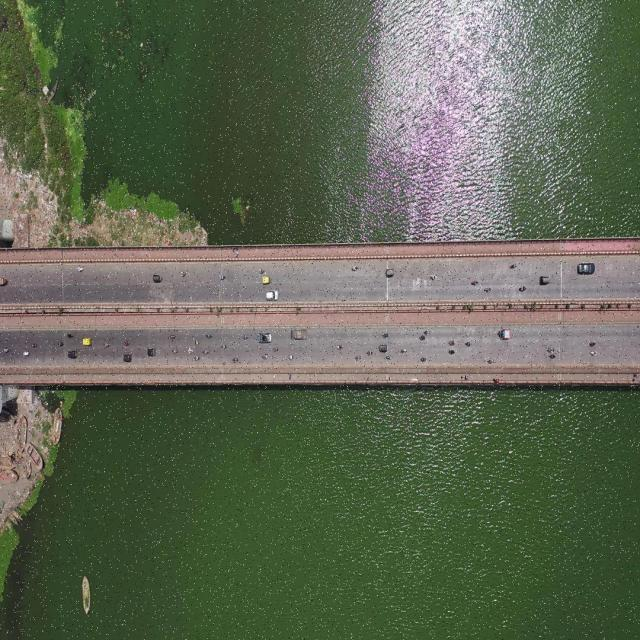3W: (79, 333, 98, 353), (0, 267, 12, 295), (383, 264, 398, 285), (537, 273, 553, 292), (150, 272, 165, 286), (262, 275, 274, 289), (377, 340, 389, 353), (400, 343, 410, 356), (420, 354, 429, 364), (419, 333, 426, 342)
Cars: (286, 322, 311, 345), (256, 328, 279, 347), (265, 289, 285, 307), (66, 346, 83, 366), (122, 350, 140, 368), (146, 339, 157, 358)
M2W: (588, 346, 604, 364), (20, 346, 33, 367), (31, 339, 45, 358), (193, 352, 205, 371), (239, 329, 251, 347), (101, 338, 113, 355), (543, 342, 559, 354), (231, 351, 242, 368), (217, 270, 229, 285), (186, 344, 196, 361), (487, 351, 497, 368), (484, 282, 494, 298), (167, 331, 179, 344), (259, 350, 271, 363), (507, 260, 519, 273), (586, 338, 599, 350), (177, 269, 189, 281), (256, 268, 272, 277), (518, 284, 529, 297), (77, 263, 88, 276), (471, 276, 480, 291), (67, 331, 79, 342), (549, 352, 560, 364), (273, 343, 282, 356), (354, 352, 363, 365), (172, 345, 179, 361), (1, 346, 11, 357), (201, 345, 210, 357), (286, 356, 298, 365), (446, 351, 458, 360), (220, 343, 230, 353), (381, 330, 391, 340), (205, 331, 214, 342), (447, 337, 458, 346), (350, 264, 360, 273), (428, 275, 438, 284), (425, 328, 434, 337), (123, 337, 131, 347), (337, 343, 344, 353), (366, 350, 373, 360), (192, 337, 202, 343), (386, 356, 394, 363), (464, 341, 473, 347)
Truck: (577, 258, 600, 288), (496, 329, 516, 345), (76, 268, 79, 271)
